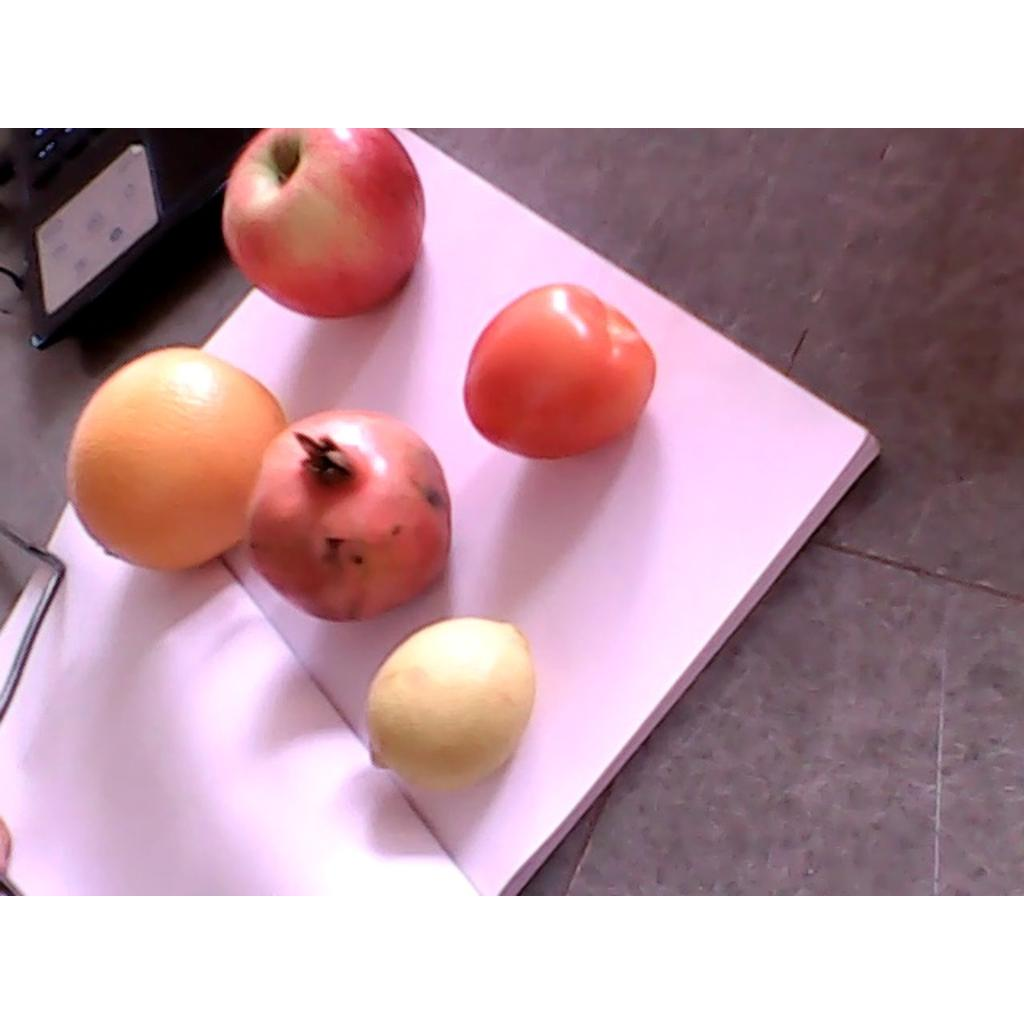apple: (220, 128, 428, 323)
lemon: (364, 618, 534, 794)
orange: (64, 348, 284, 568)
pomegranate: (243, 405, 455, 617)
tomato: (465, 281, 654, 462)
